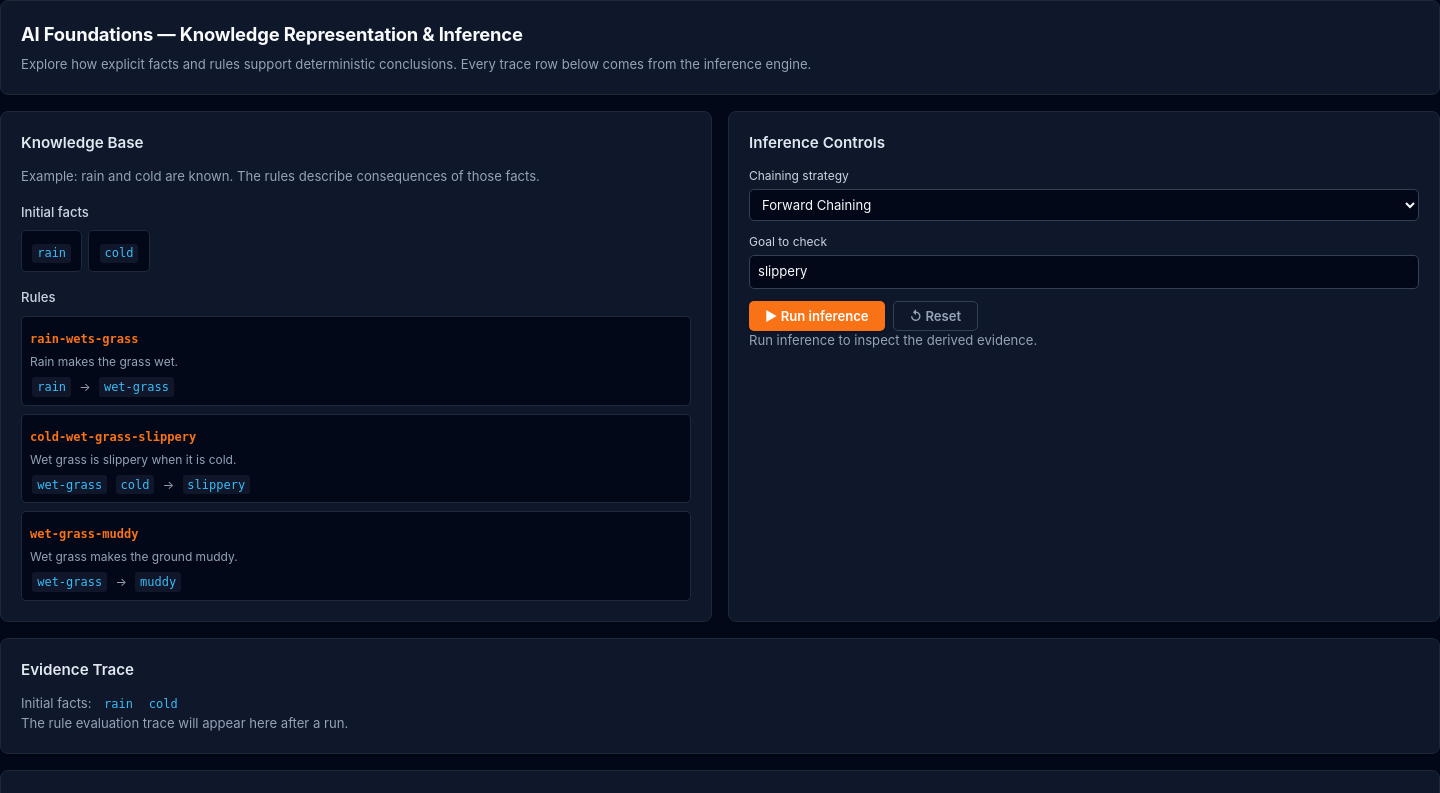
Test: KnowledgeLab › displays unknown for a goal with no supporting fact or rule
Replace the text in the field named "Inference goal" with "sunny" at {"x": 1084, "y": 272}, box [749, 255, 1419, 289]
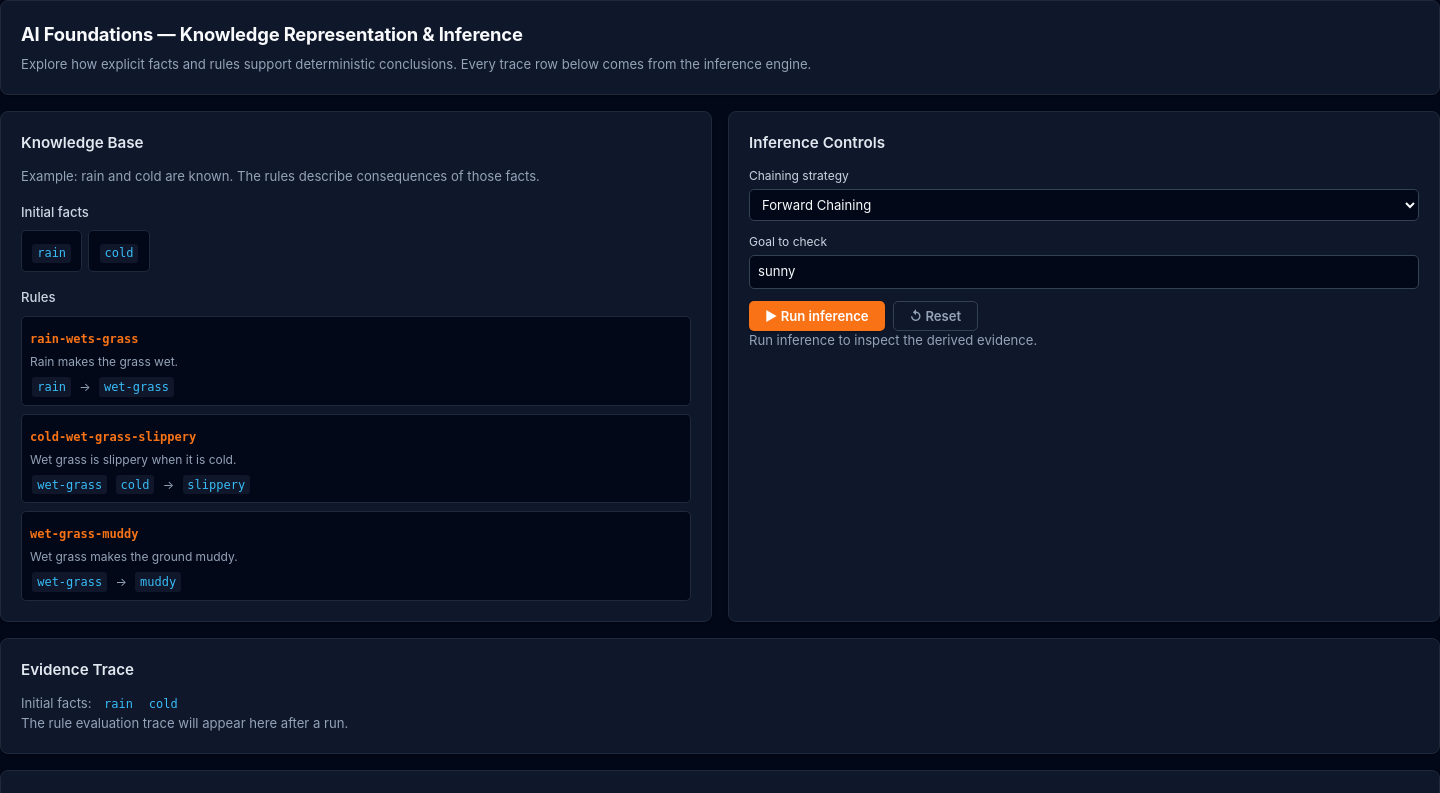
Select "Backward Chaining" in the dropdown labelled "Chaining strategy" at {"x": 1084, "y": 205}, box [749, 189, 1419, 221]
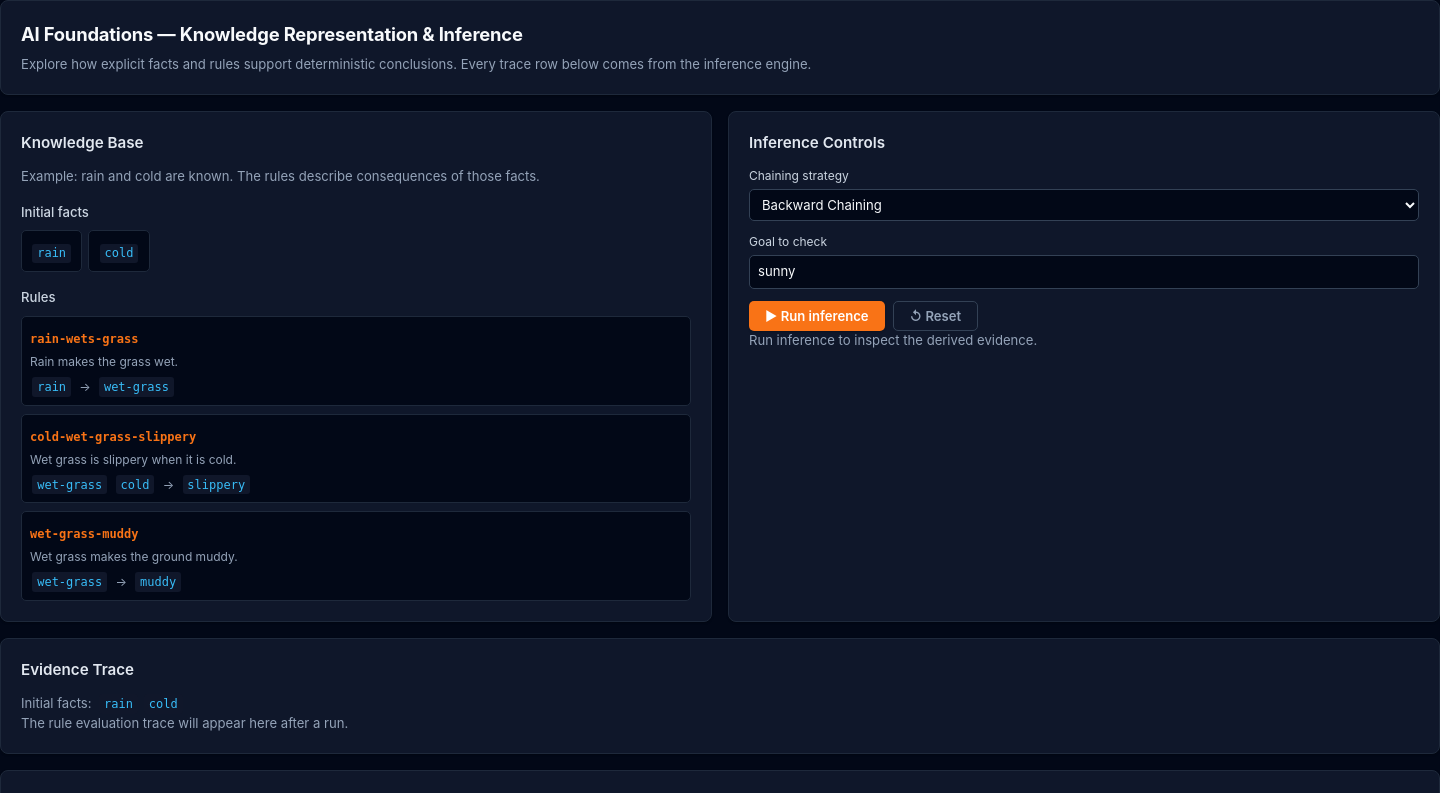
Click the button "▶ Run inference" at {"x": 817, "y": 316}, box [749, 301, 885, 331]
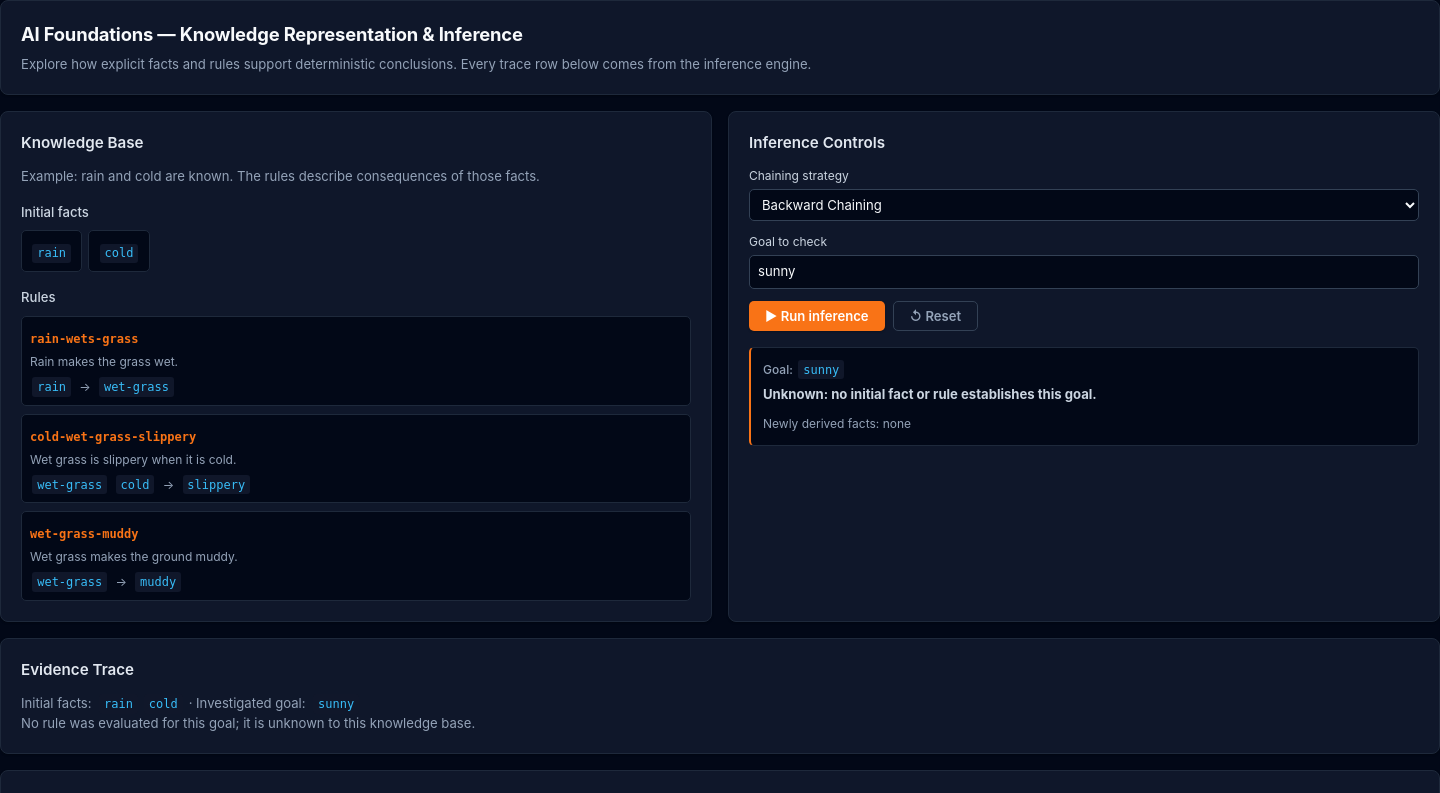
Expected: the message shows "Unknown: no initial fact or rule establishes this goal.", [763, 386, 1097, 402]
Expected: the text "No rule was evaluated for this goal" is shown, [21, 714, 475, 730]
